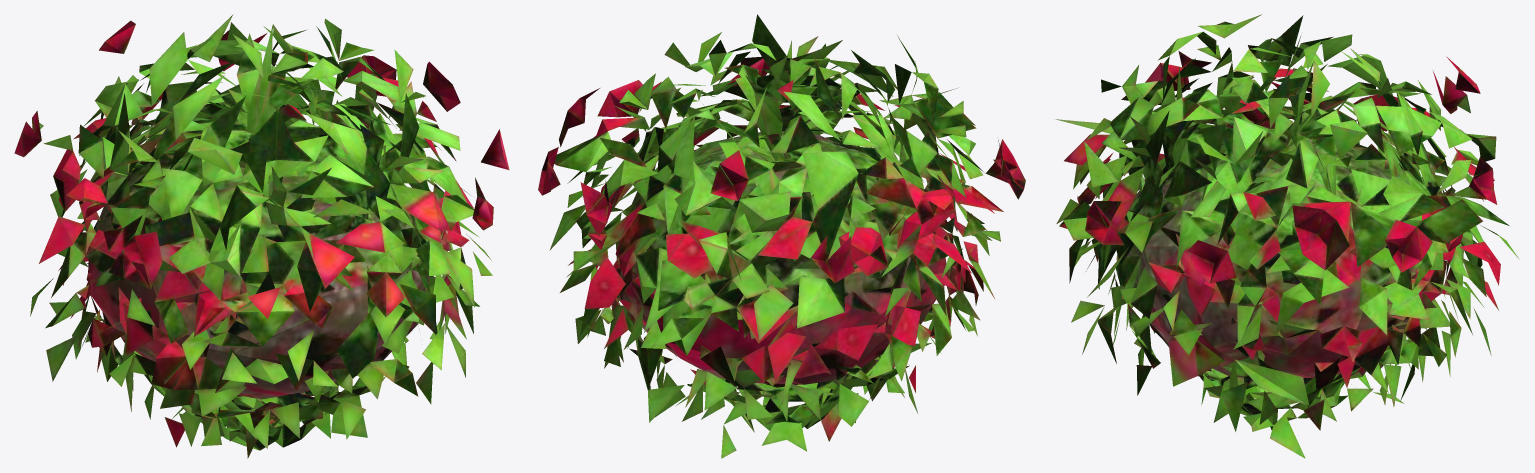
File: bush-leafy.lod.glb
3 renders of one model, left to right at view 1: azimuth 30°, elevation 25°; view 2: azimuth 150°, elevation 25°; view 3: azimuth 270°, elevation 25°, orthographic. The views are drawn at different scales.
Size of the model in its own units: 1.85 by 1.64 by 1.86.
1 material, 1 textured.
